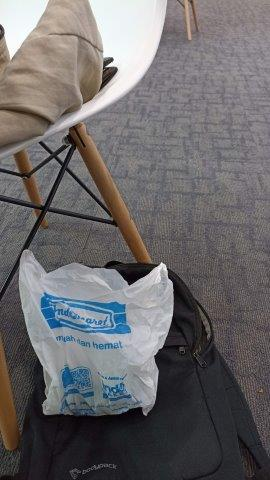plastik: (18, 250, 174, 417)
